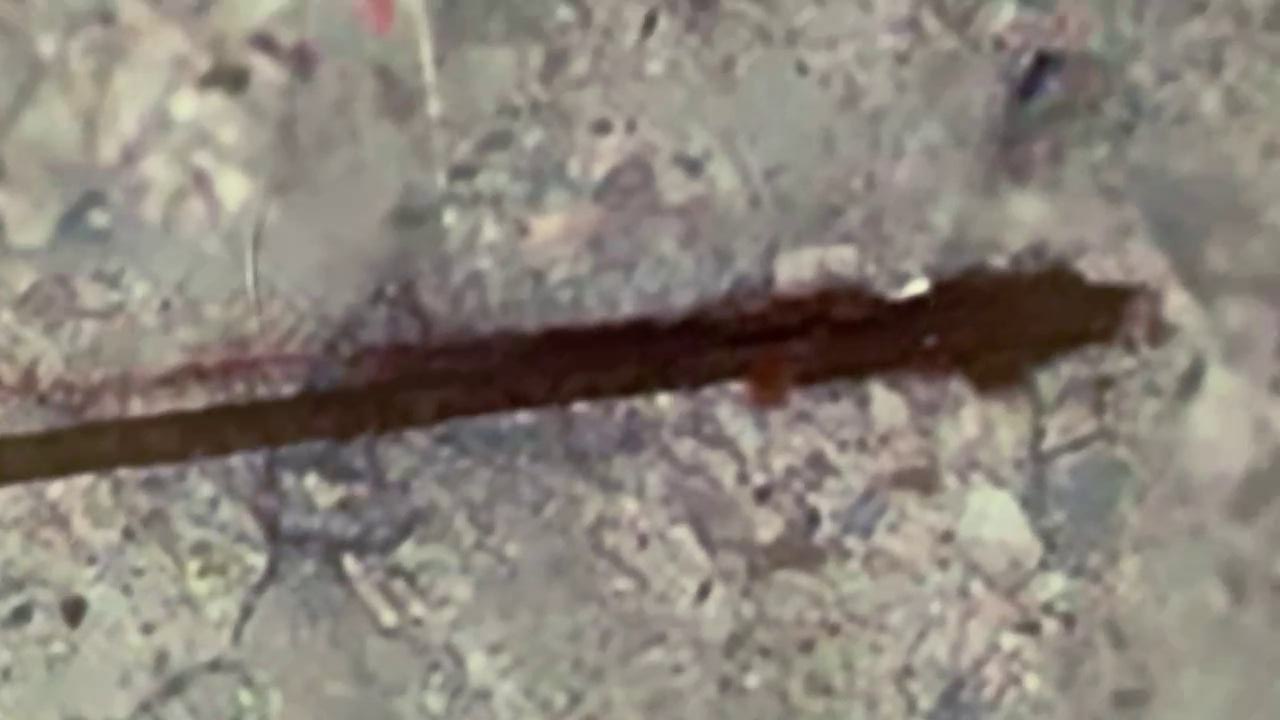Exposed reinforcement: (1, 258, 1151, 492)
